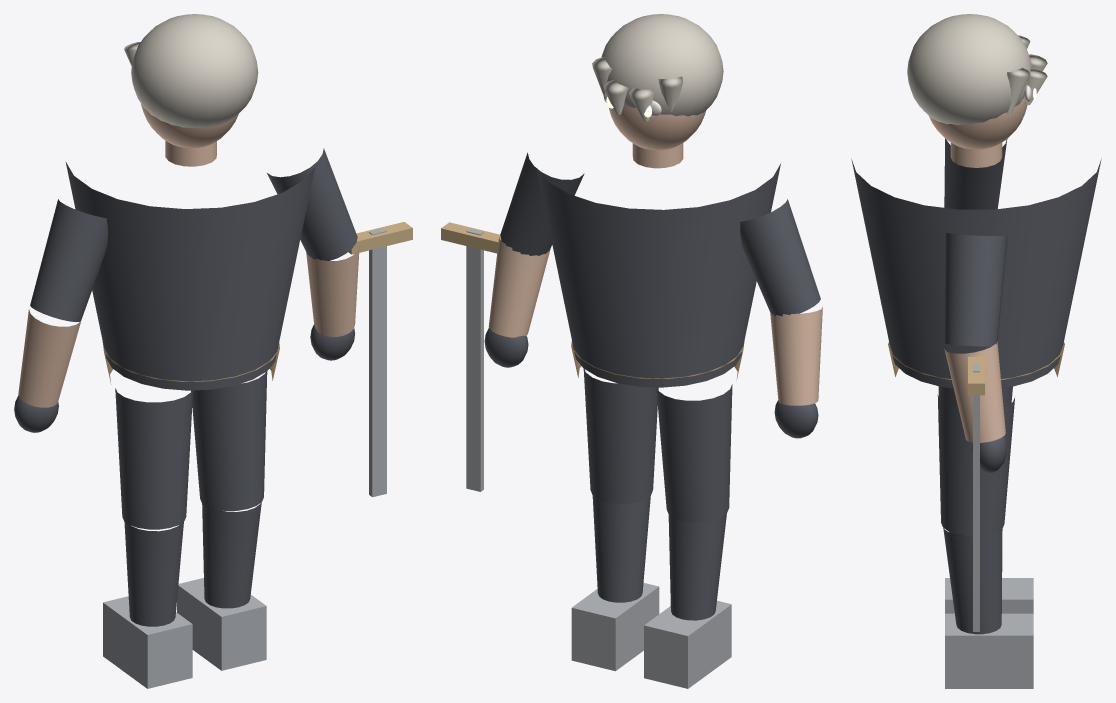
The model's file is chris-procedural-v1.glb.
3 renders of one model, left to right at view 1: azimuth 30°, elevation 25°; view 2: azimuth 150°, elevation 25°; view 3: azimuth 270°, elevation 25°, orthographic. The views are drawn at different scales.
Visible parts, largest first — view 1: Outfit_Torso, Hair_Cap, Body_Thigh_L, Body_Thigh_R, Body_UpperArm_L, Outfit_Boot_L, Outfit_Boot_R, Body_Shin_R, Body_Shin_L, Weapon_SwordBlade, Body_UpperArm_R, Body_Forearm_L (+6 smaller); view 2: Outfit_Torso, Hair_Cap, Body_Thigh_L, Body_Thigh_R, Body_UpperArm_L, Outfit_Boot_L, Outfit_Boot_R, Body_Shin_R, Body_Shin_L, Weapon_SwordBlade, Body_Forearm_L, Body_Forearm_R (+6 smaller); view 3: Outfit_Torso, Hair_Cap, Body_UpperArm_R, Body_Thigh_R, Outfit_Boot_R, Body_Shin_R, Body_Forearm_R, Body_UpperArm_L, Body_Head, Weapon_SwordBlade, Outfit_Boot_L, Body_Neck (+5 smaller).
Boxes of the visible parts, <box> form: Outfit_Torso: <box>65,162,315,390</box>; Hair_Cap: <box>131,14,258,128</box>; Body_Thigh_L: <box>115,388,192,529</box>; Body_Thigh_R: <box>191,371,267,510</box>; Body_UpperArm_L: <box>30,199,107,322</box>; Outfit_Boot_L: <box>103,596,192,688</box>; Outfit_Boot_R: <box>177,578,266,670</box>; Body_Shin_R: <box>202,502,261,608</box>; Body_Shin_L: <box>124,521,183,626</box>; Weapon_SwordBlade: <box>369,228,386,497</box>; Body_UpperArm_R: <box>267,148,357,260</box>; Body_Forearm_L: <box>18,309,81,407</box>; Outfit_Torso: <box>536,163,780,387</box>; Hair_Cap: <box>601,14,723,116</box>; Body_Thigh_L: <box>656,384,732,522</box>; Body_Thigh_R: <box>583,369,658,503</box>; Body_UpperArm_L: <box>740,199,820,316</box>; Outfit_Boot_L: <box>644,600,731,688</box>; Outfit_Boot_R: <box>571,583,659,671</box>; Body_Shin_R: <box>592,495,650,602</box>; Body_Shin_L: <box>668,513,726,620</box>; Weapon_SwordBlade: <box>466,229,483,491</box>; Body_Forearm_L: <box>770,307,822,405</box>; Body_Forearm_R: <box>488,237,550,337</box>; Outfit_Torso: <box>851,158,1101,388</box>; Hair_Cap: <box>907,14,1031,125</box>; Body_UpperArm_R: <box>944,232,1007,346</box>; Body_Thigh_R: <box>937,395,1014,536</box>; Outfit_Boot_R: <box>945,613,1033,688</box>; Body_Shin_R: <box>943,528,1002,634</box>; Body_Forearm_R: <box>944,341,1005,442</box>; Body_UpperArm_L: <box>944,138,1007,209</box>; Body_Head: <box>929,98,1027,149</box>; Weapon_SwordBlade: <box>973,364,979,631</box>; Outfit_Boot_L: <box>945,578,1033,613</box>; Body_Neck: <box>950,142,1002,167</box>.
Size of the model in its own units: 1.18 by 1.88 by 0.6685.
